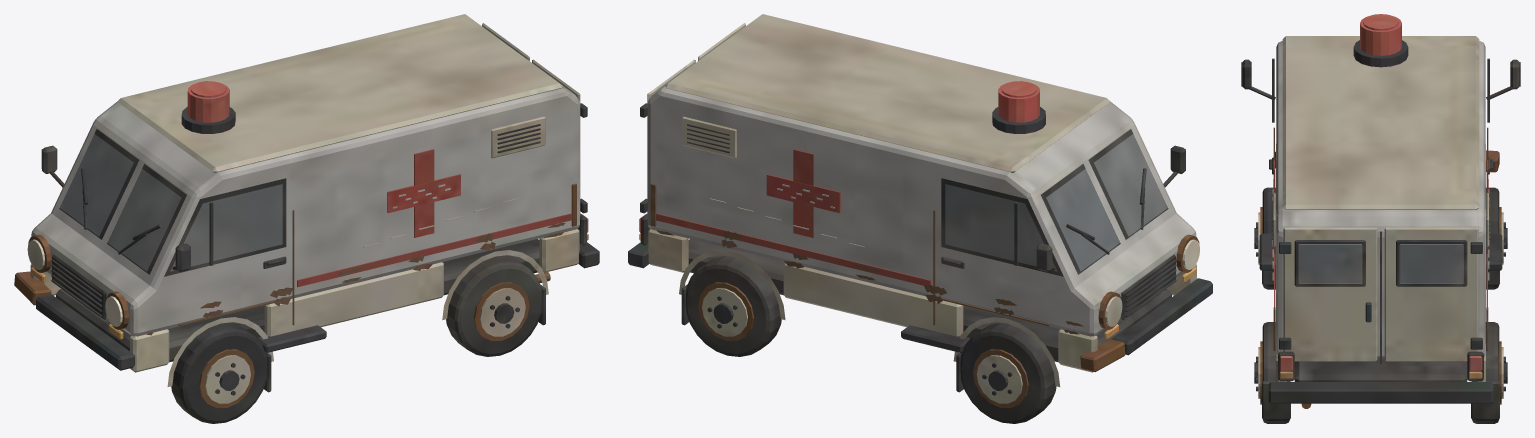
The model's file is H11_ambulance_old.glb.
3 renders of one model, left to right at view 1: azimuth 30°, elevation 25°; view 2: azimuth 150°, elevation 25°; view 3: azimuth 270°, elevation 25°, orthographic.
Parts seen in each view (by area): view 1: Old pressed steel ambulance shell; view 2: Old pressed steel ambulance shell; view 3: Old pressed steel ambulance shell.
Part boxes in pixels (x1,y1,x2,y2): Old pressed steel ambulance shell: [14, 14, 599, 423]; Old pressed steel ambulance shell: [628, 14, 1212, 423]; Old pressed steel ambulance shell: [1241, 14, 1520, 423].
Bounding box in the file's own units: 5 × 2.82 × 2.52.
Materials: 10 (9 with a texture image).
